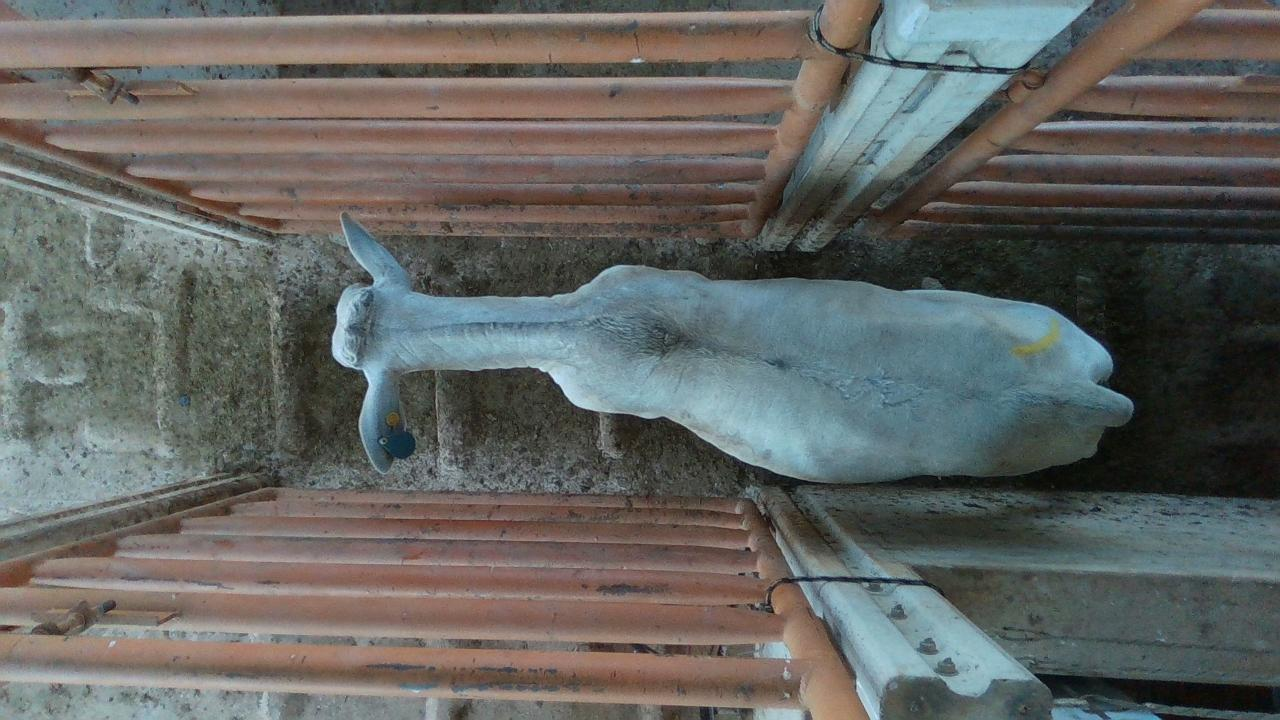cattle: (328, 209, 1135, 485)
